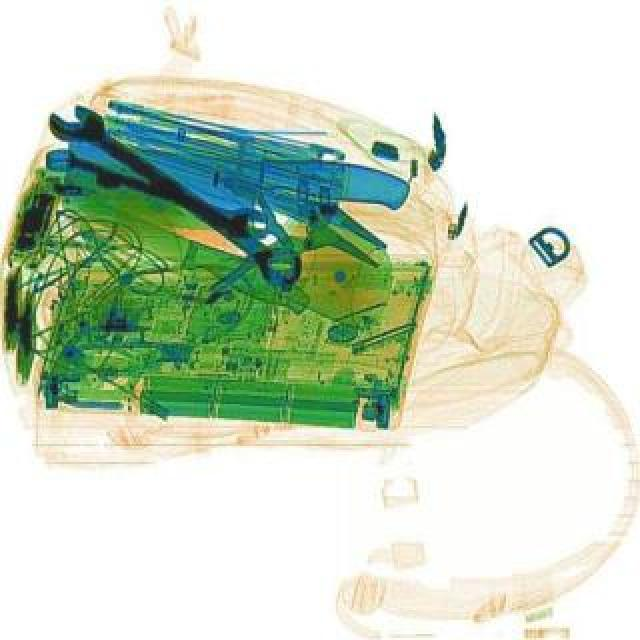knife: (54, 110, 410, 264), (54, 170, 318, 322)
scissors: (38, 92, 314, 292), (38, 144, 270, 240)
